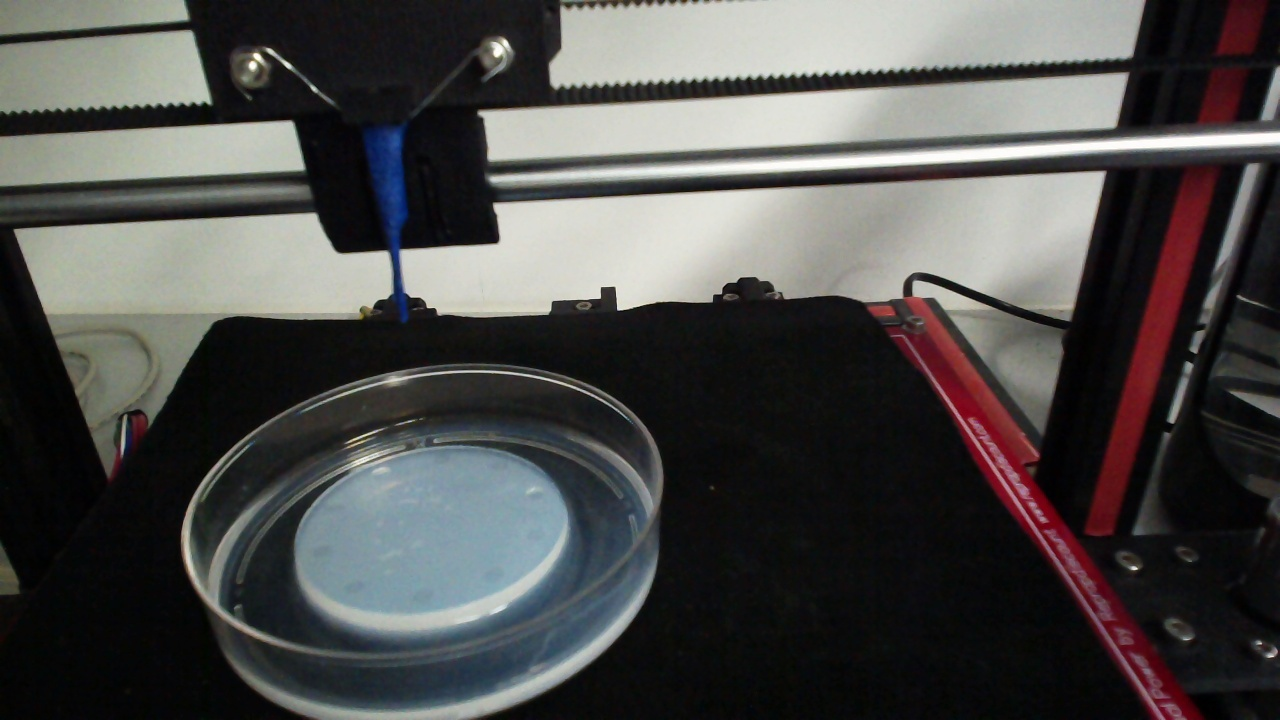groove: (479, 565, 505, 585), (485, 456, 510, 473), (411, 586, 433, 605), (431, 449, 453, 467), (526, 526, 547, 544), (322, 499, 346, 514), (342, 579, 363, 596), (369, 465, 392, 480), (523, 484, 543, 501), (311, 544, 330, 560)
needle: (358, 127, 405, 322)
